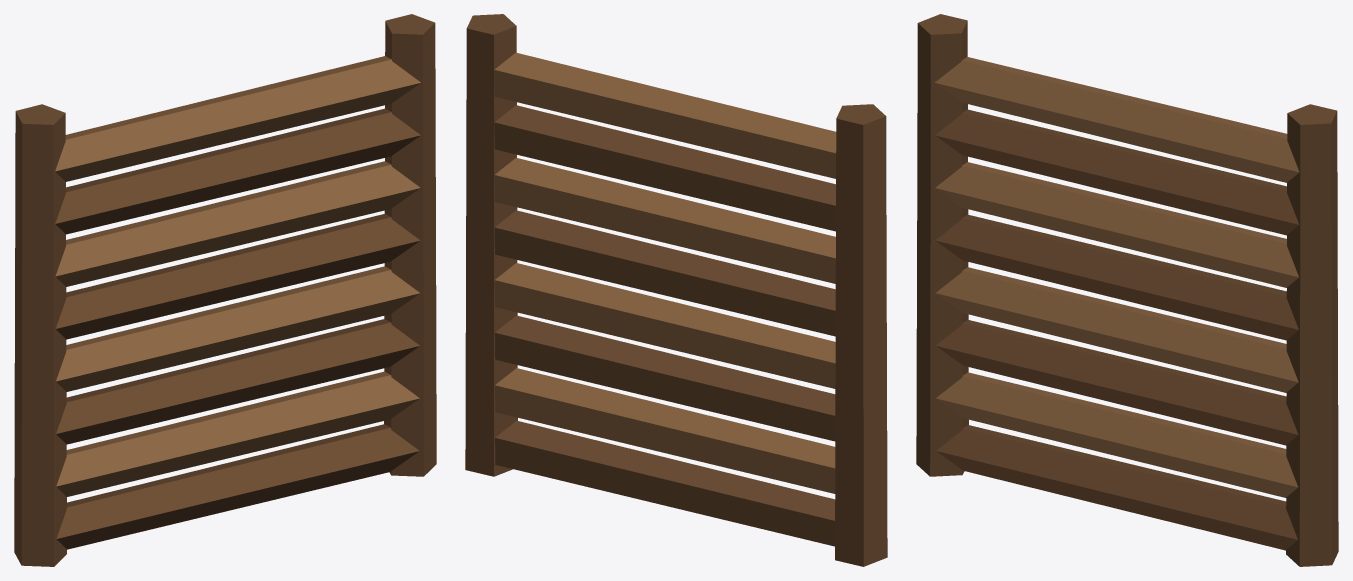
The model's file is wall-log.glb.
The picture shows the model from 3 angles, left to right: view 1: azimuth 30°, elevation 25°; view 2: azimuth 150°, elevation 25°; view 3: azimuth 330°, elevation 25°; orthographic projection.
Visible parts, largest first — view 1: wall_log; view 2: wall_log; view 3: wall_log.
Part boxes in pixels (x1=…): wall_log: x1=14, y1=14, x2=436, y2=566; wall_log: x1=465, y1=14, x2=887, y2=566; wall_log: x1=916, y1=14, x2=1338, y2=566.
Size of the model in its own units: 2.07 by 2.1 by 0.2181.
